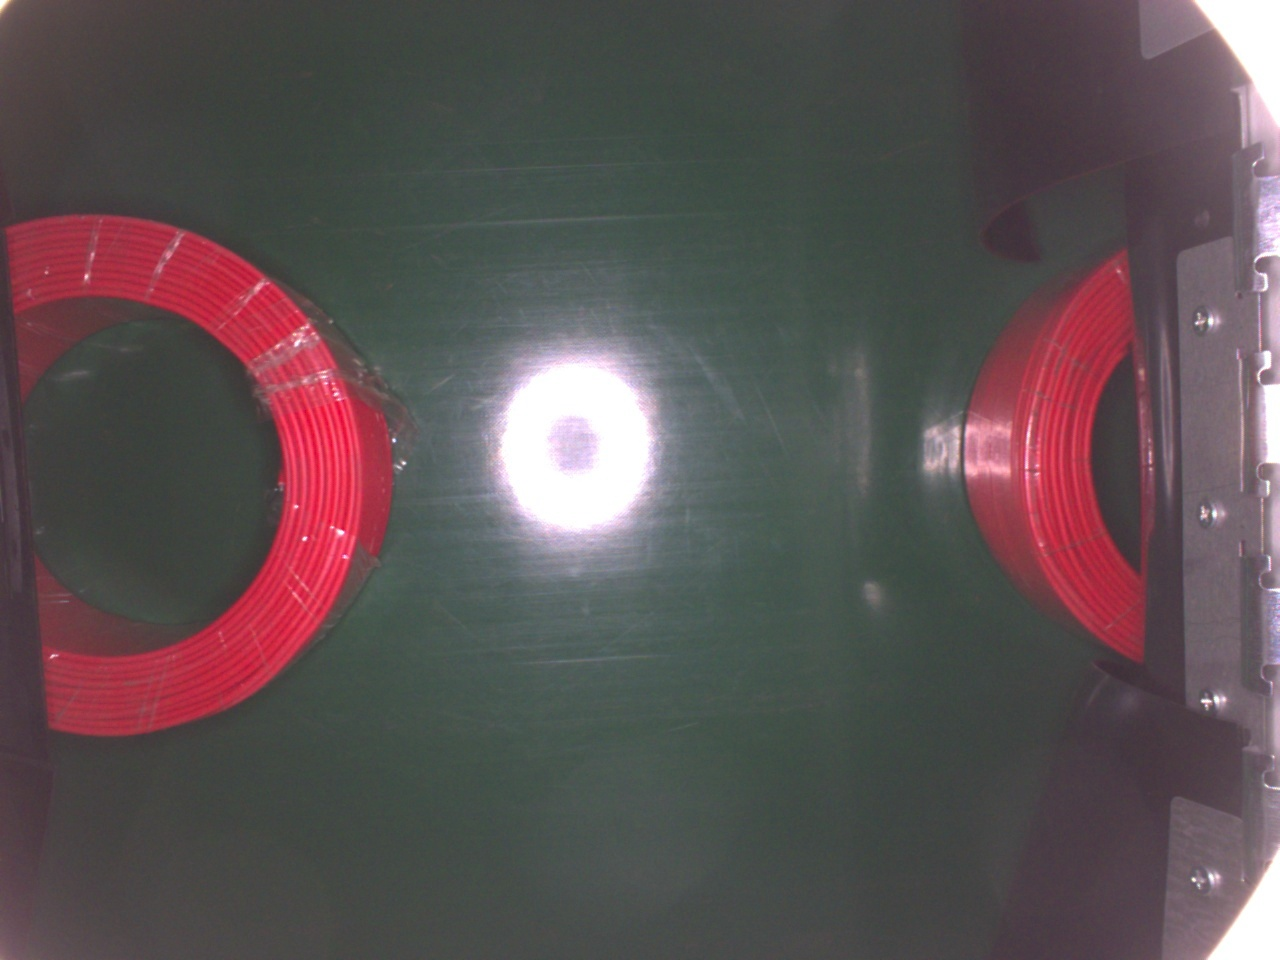red: (3, 210, 393, 743), (962, 237, 1154, 668)
